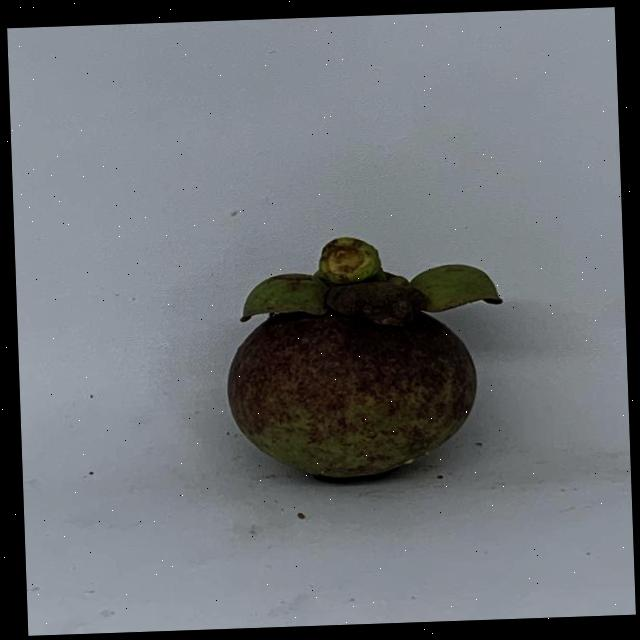mangosteen: (220, 222, 510, 520)
